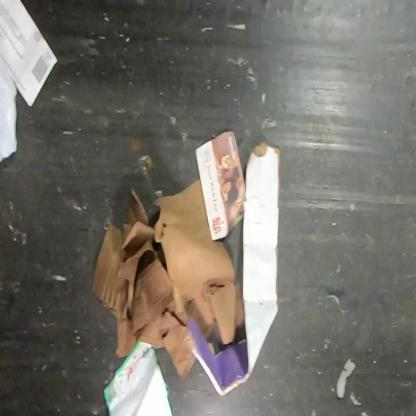cardboard: (90, 178, 244, 383), (187, 140, 282, 398)
soft_plastic: (0, 48, 18, 176)
